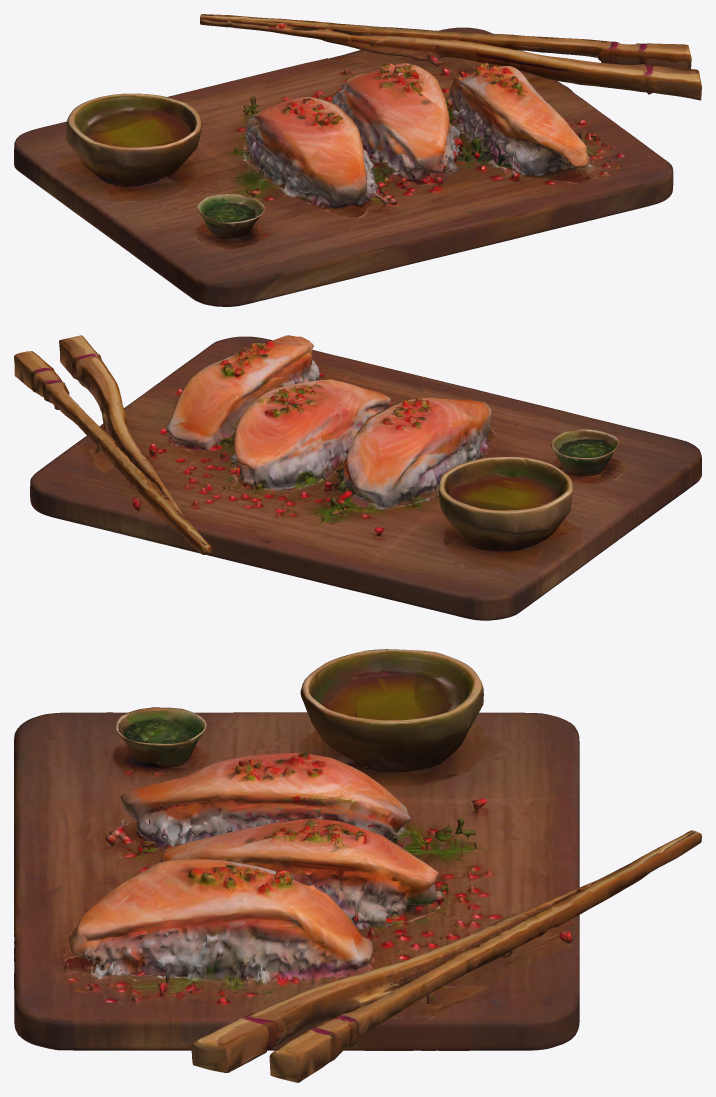
The model's file is sushi.glb.
The picture shows the model from 3 angles, top to bottom: view 1: azimuth 30°, elevation 25°; view 2: azimuth 150°, elevation 25°; view 3: azimuth 270°, elevation 25°; orthographic projection. The views are drawn at different scales.
Visible parts, largest first — view 1: Sushi; view 2: Sushi; view 3: Sushi.
Boxes of the visible parts, box(x1,y1,x2,y2) form: Sushi: box(14, 14, 701, 306); Sushi: box(14, 335, 701, 620); Sushi: box(14, 649, 701, 1082).
Bounding box in the file's own units: 0.3153 × 0.0445 × 0.2411.
Materials: 1 (1 with a texture image).
